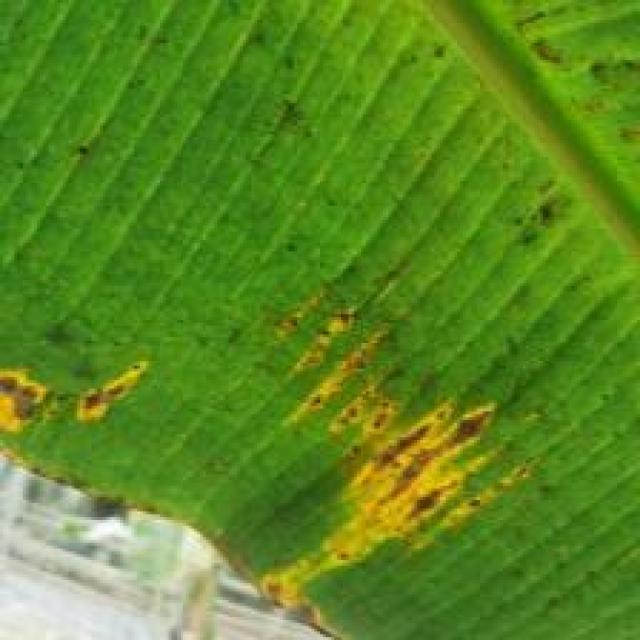Downey_mildrew: (215, 263, 556, 640), (0, 306, 177, 500), (510, 2, 640, 138), (490, 175, 605, 252), (256, 76, 355, 162)
